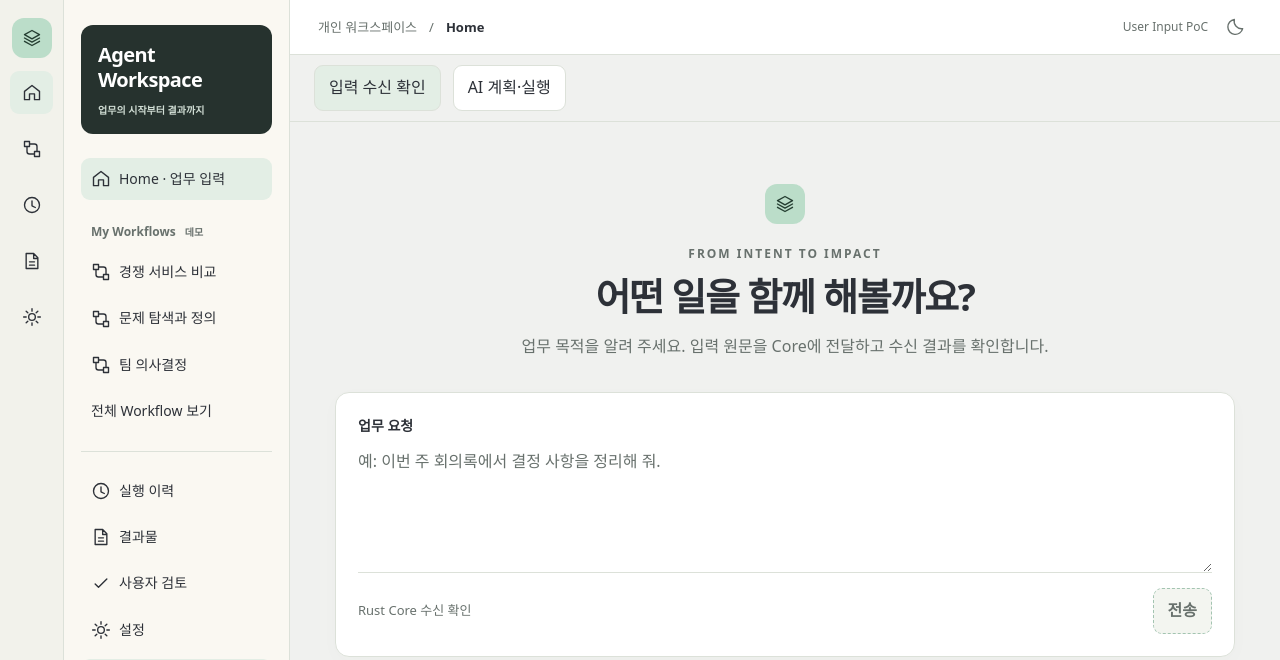
it: UI-02 Navigation Rail 실제 페이지 전환
Click the button named "실행 이력" at (32, 204), box [10,183,53,226]
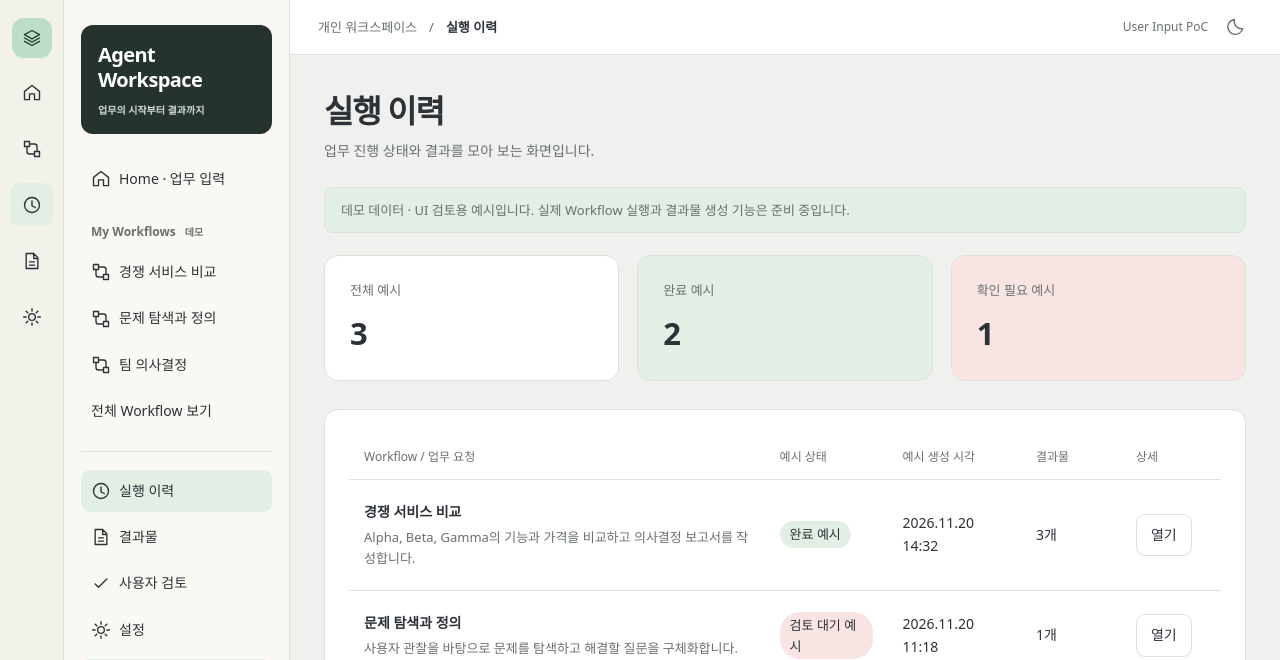
expect the heading "실행 이력" is shown: met, box [324,89,444,132]
Click the button named "홈" at (32, 92), box [10,71,53,114]
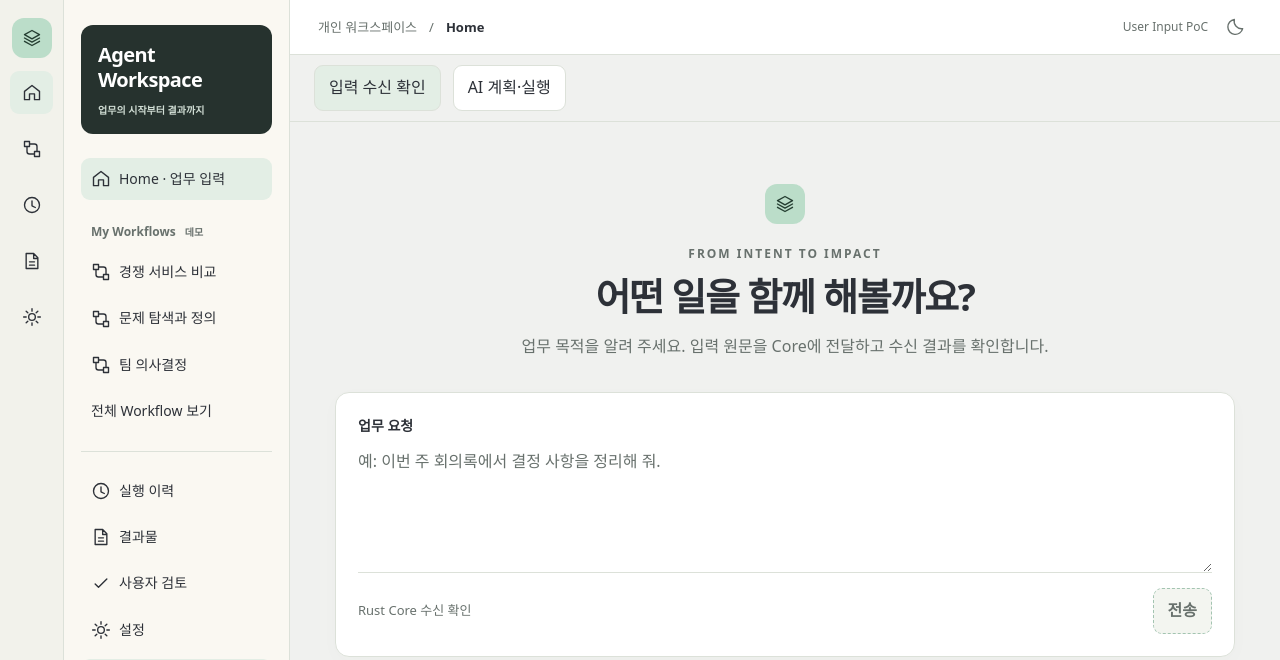
expect the text box labelled "업무 요청" is shown: met, box [358,437,1212,572]
